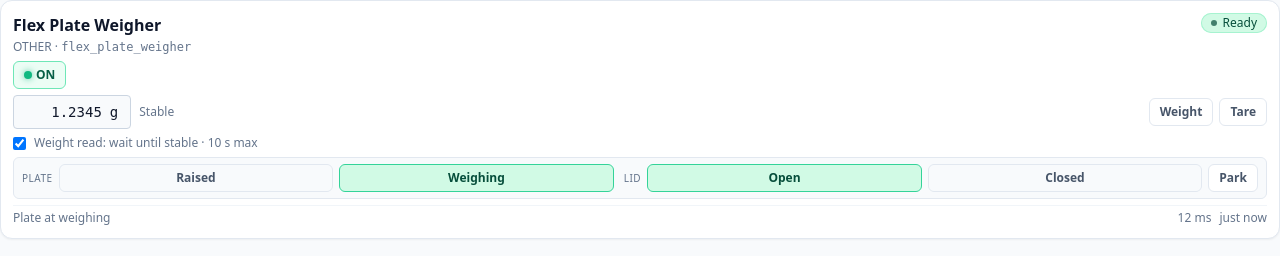
PlateWeigherTile › shows the reading the device returns
Click the button "Weight" at {"x": 1181, "y": 112}, box [1149,98,1213,126]
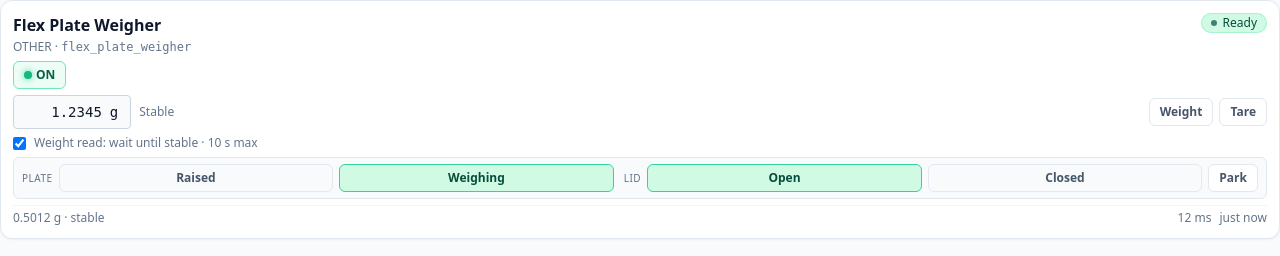
Expected: the text "0.5012 g · stable" is shown, [13,209,105,226]
